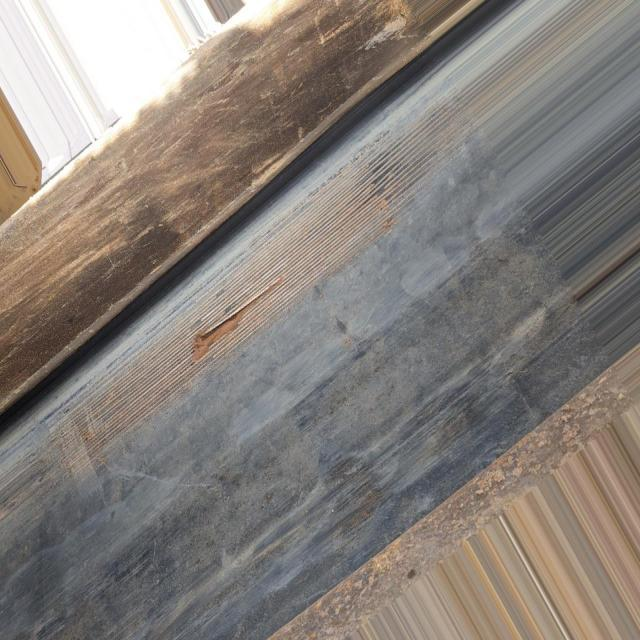Wear: (0, 95, 474, 530)
